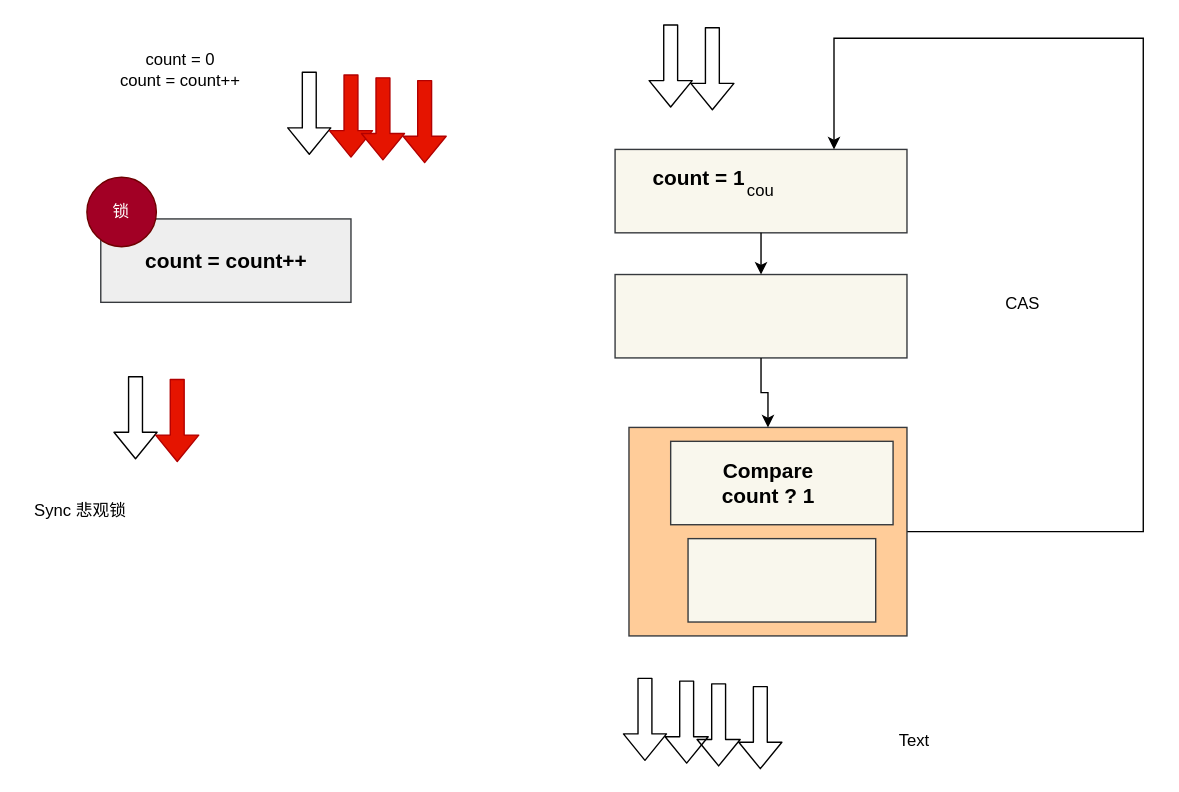
Image size: 1179x792. Some labels were removed from this diagram. Here are the shapes that lost their labels. From the top down, the box of each, then its label:
(614, 273, 907, 358): count ++1--->2
(687, 537, 876, 622): Swap 1---> 2
